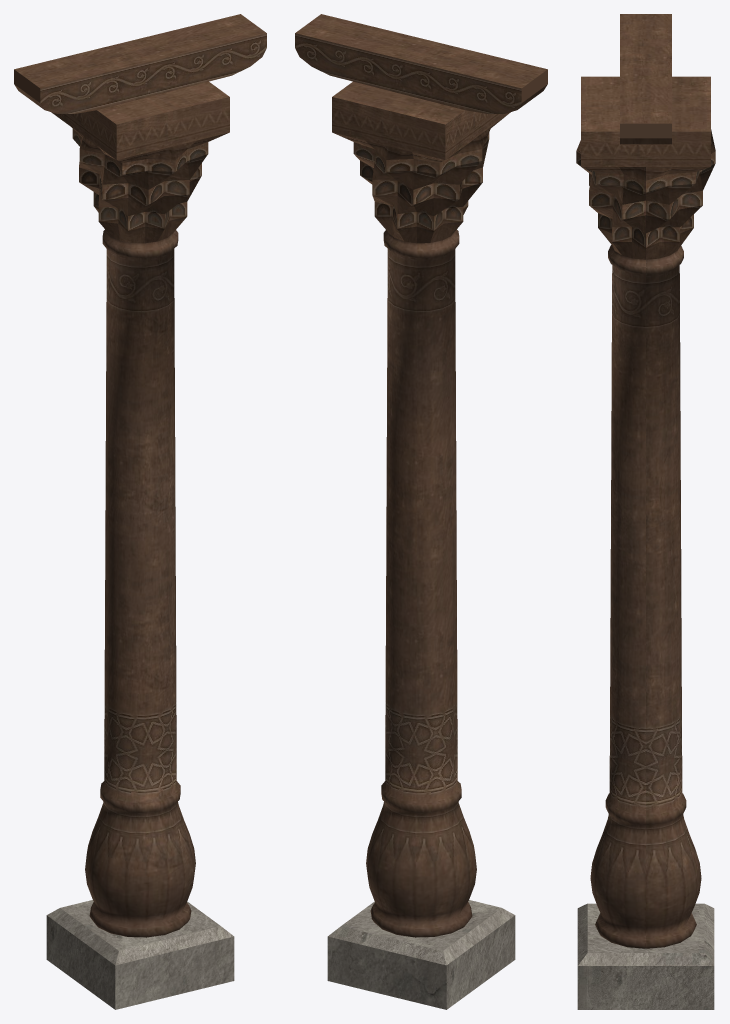
The model's file is column_aivan.glb.
3 renders of one model, left to right at view 1: azimuth 30°, elevation 25°; view 2: azimuth 150°, elevation 25°; view 3: azimuth 270°, elevation 25°, orthographic.
Parts seen in each view (by area): view 1: column_aivan; view 2: column_aivan; view 3: column_aivan.
Part boxes in pixels (bbox=[...]): column_aivan: bbox=[14, 14, 266, 1009]; column_aivan: bbox=[295, 14, 547, 1009]; column_aivan: bbox=[576, 14, 715, 1009].
Bounding box in the file's own units: 0.8 × 3.1 × 0.43.
1 material, 1 textured.
